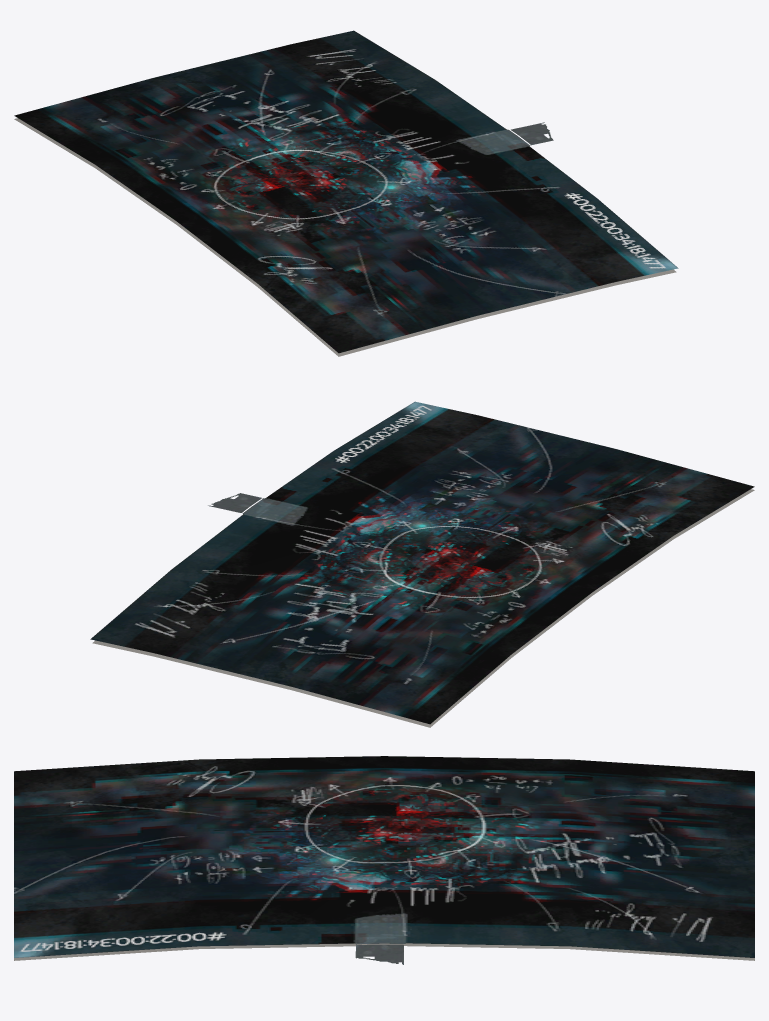
The model's file is 04_02_ross_photos05.dae.
3 renders of one model, top to bottom at view 1: azimuth 30°, elevation 25°; view 2: azimuth 150°, elevation 25°; view 3: azimuth 270°, elevation 25°, orthographic. The views are drawn at different scales.
Visible parts, largest first — view 1: photograph_world01; view 2: photograph_world01; view 3: photograph_world01.
Part boxes in pixels (box(x1,y1,x2,y2)): photograph_world01: box(14, 30, 678, 356); photograph_world01: box(90, 401, 754, 727); photograph_world01: box(14, 756, 754, 964).
Size of the model in its own units: 0.2289 by 0.0108 by 0.3093.
